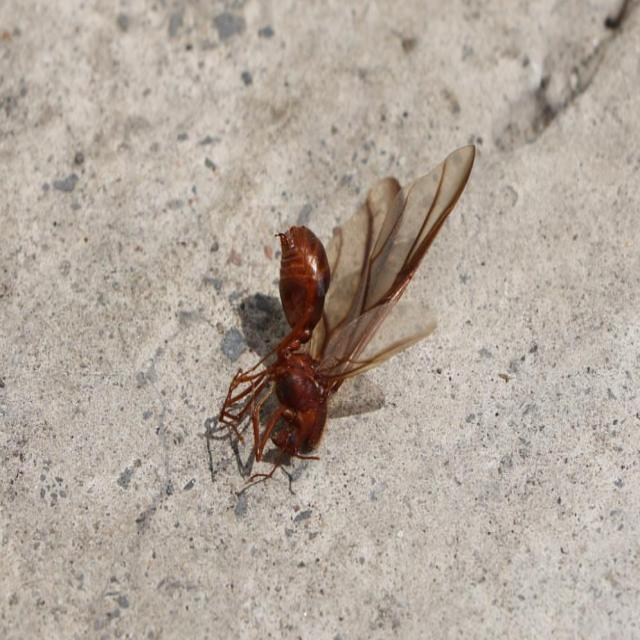Dead-Male-Alate: (218, 143, 476, 486)
